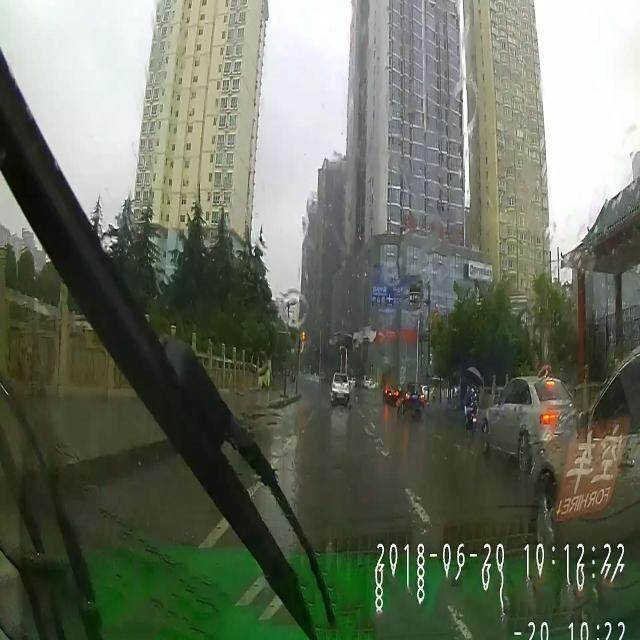car: (525, 336, 639, 568), (481, 375, 575, 473), (464, 376, 479, 434), (399, 382, 425, 414), (330, 372, 350, 404), (382, 382, 400, 407)
